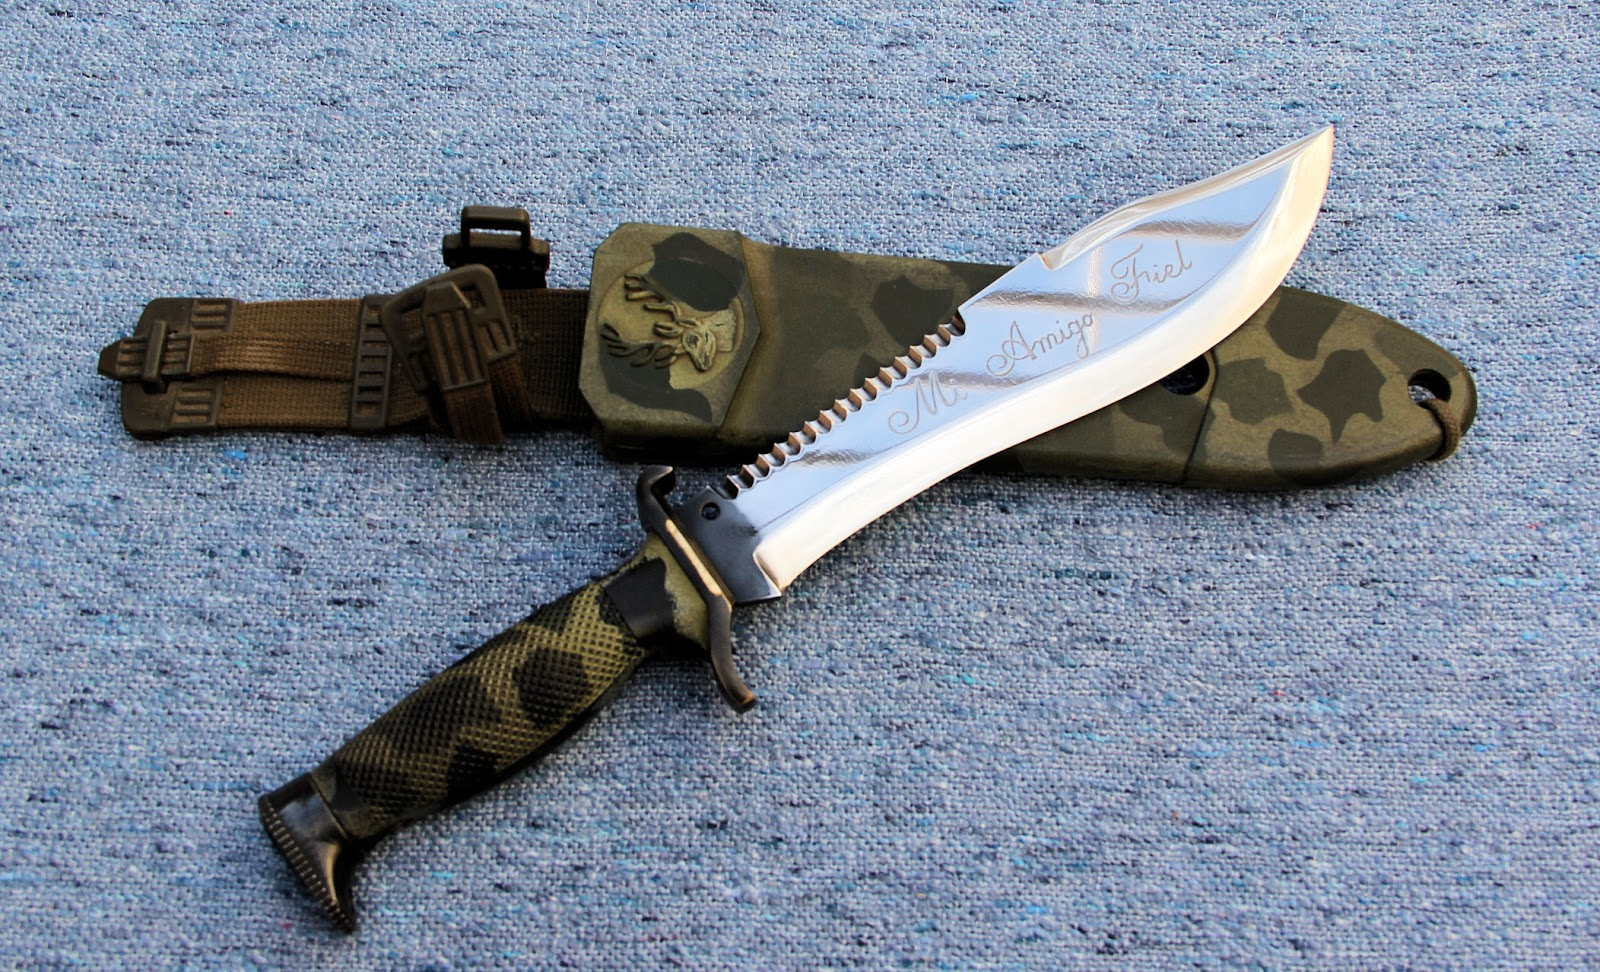knife: (699, 105, 1349, 611)
